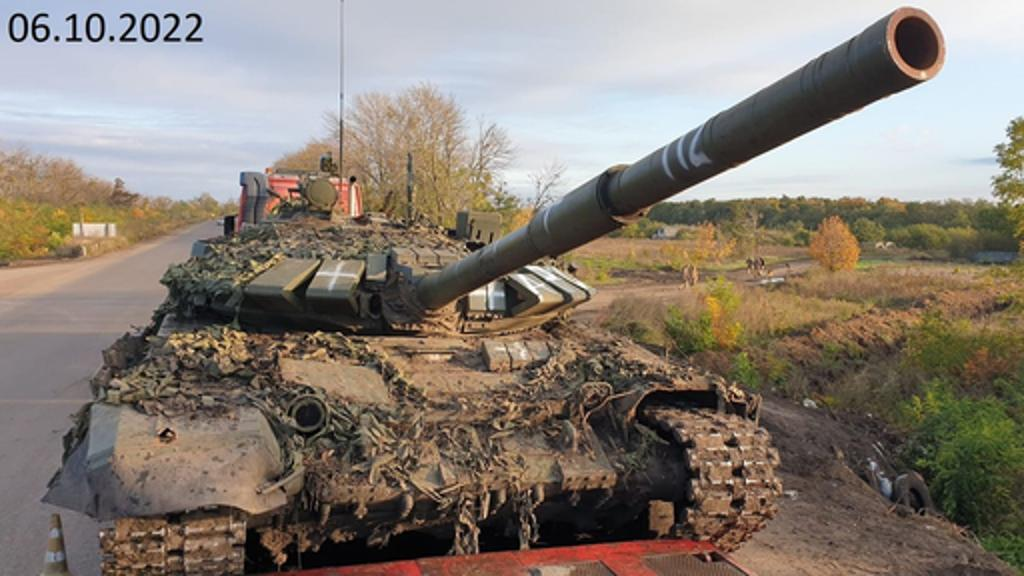TANK: (50, 2, 950, 574)
